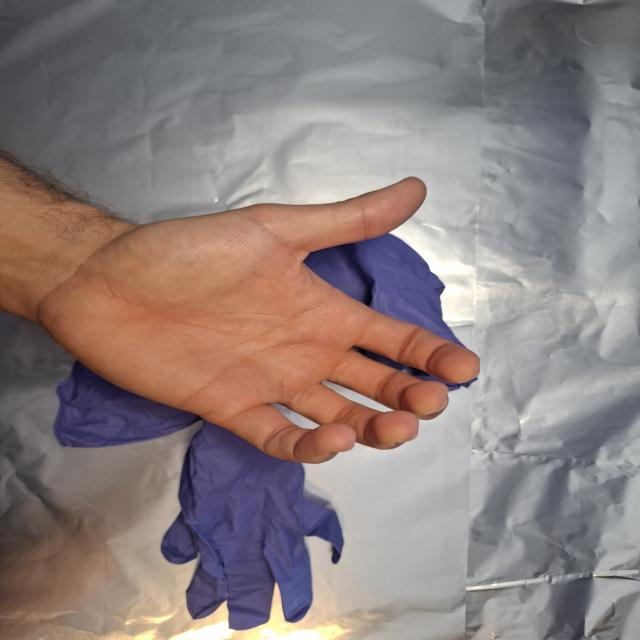glove_off: (34, 174, 482, 465)
